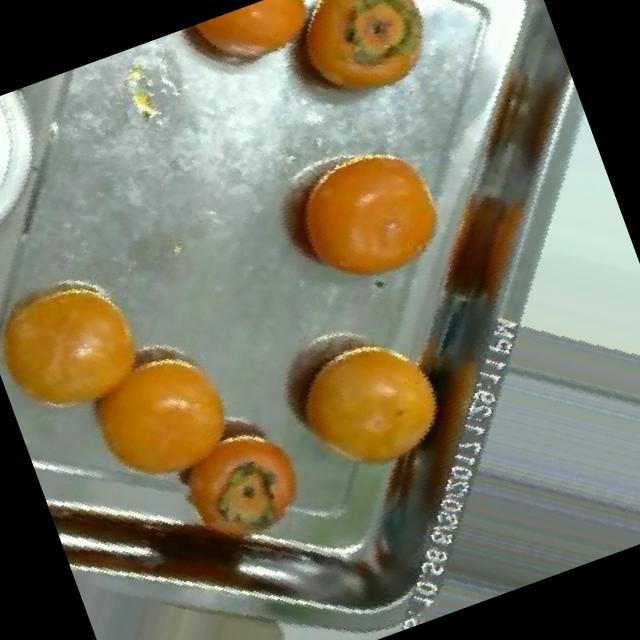Fruit: (228, 102, 496, 348), (234, 284, 489, 534), (44, 310, 276, 536), (0, 238, 183, 456), (239, 0, 474, 144), (157, 0, 348, 110)
